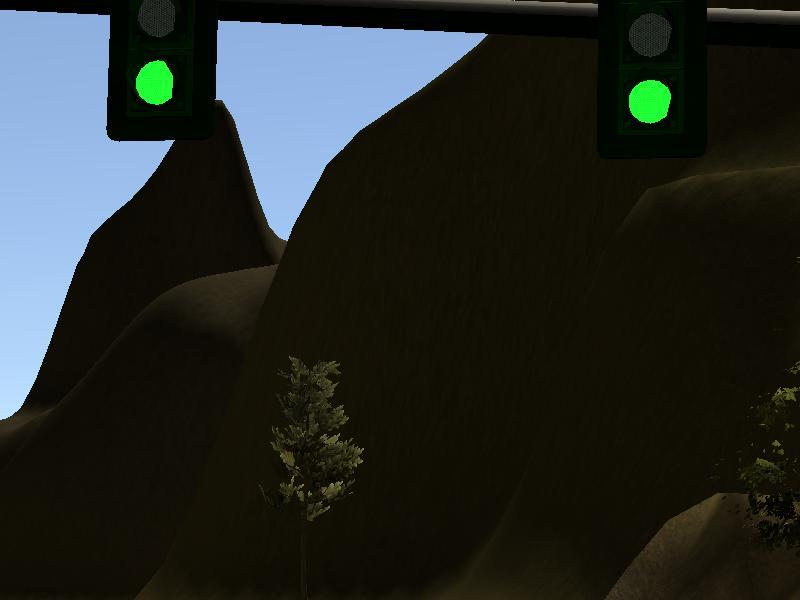Green: (596, 1, 707, 157), (108, 1, 214, 138)
